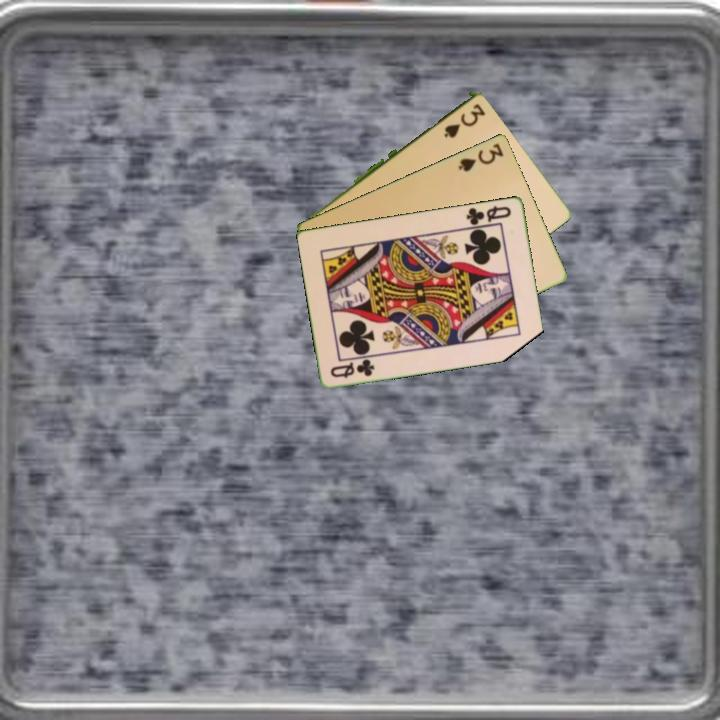3s: (440, 99, 487, 140), (454, 139, 506, 174)
Qc: (463, 202, 514, 228), (327, 356, 378, 381)
